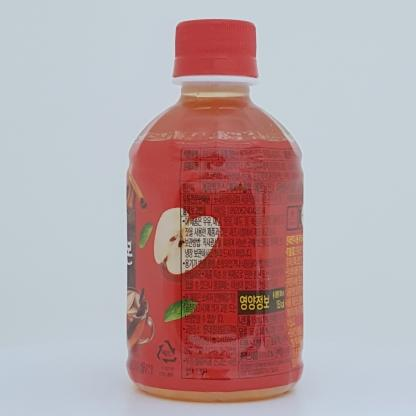----------280ML: (126, 19, 303, 402)
